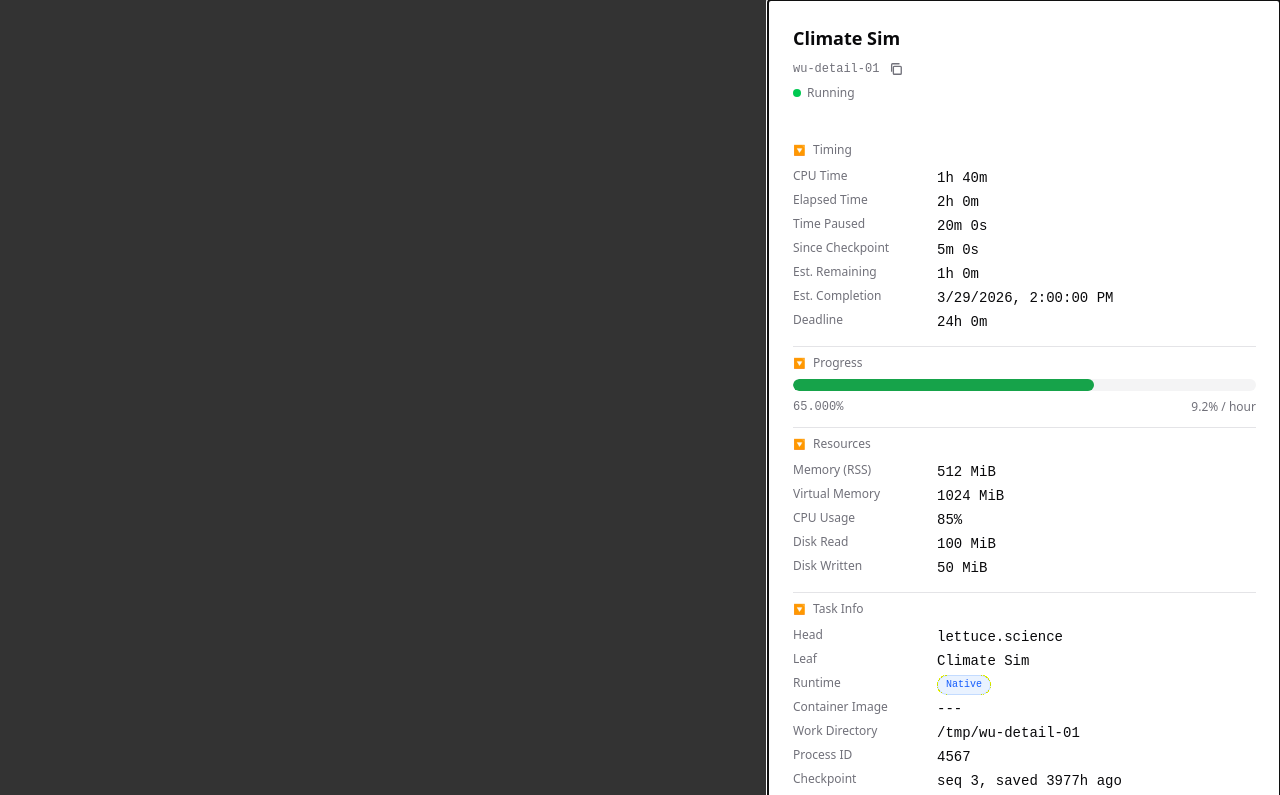
it: TaskDetailPanel › sections toggle independently
Click the button "▶ Timing" at (832, 150), box [793,134,1256,166]
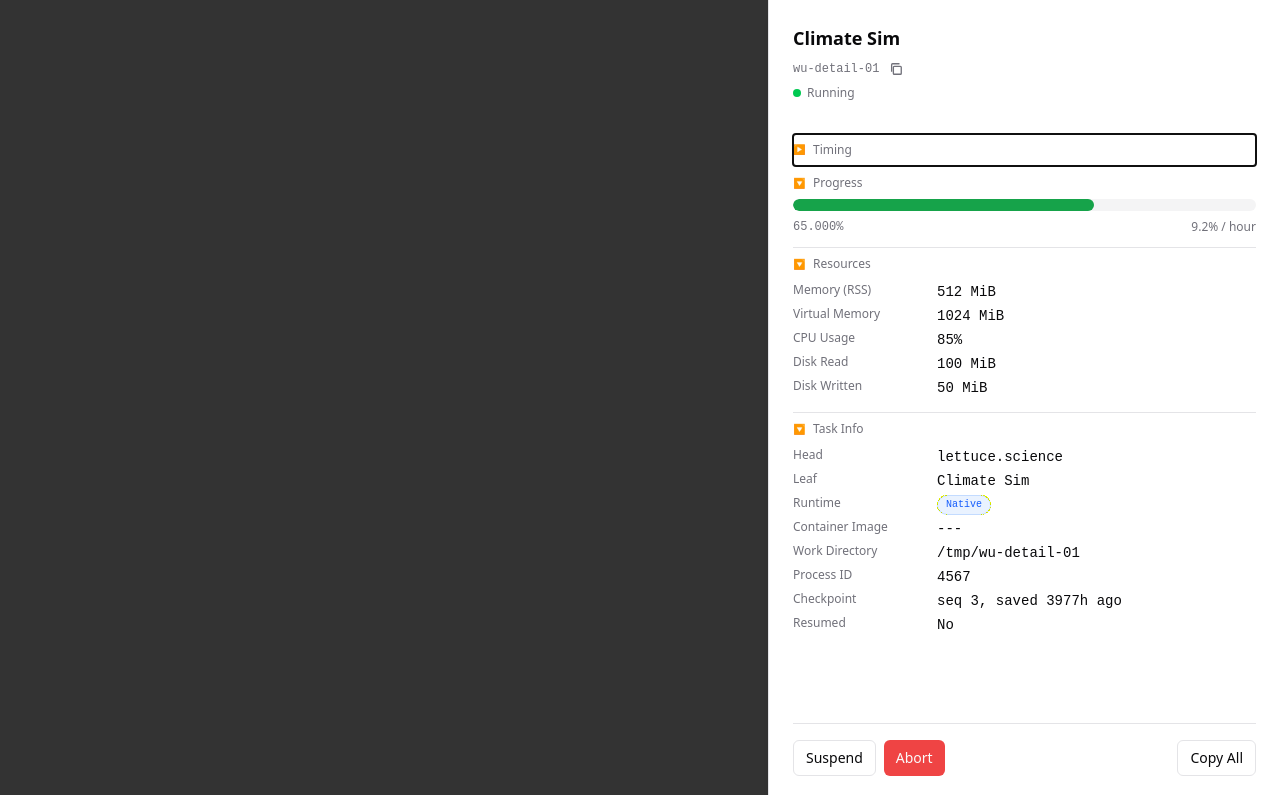
Expected: the text "Memory (RSS)" is shown, [793,281,871,298]
Expected: the text "CPU Time" is gone
Click the button "▶ Resources" at (842, 264), box [793,248,1256,280]
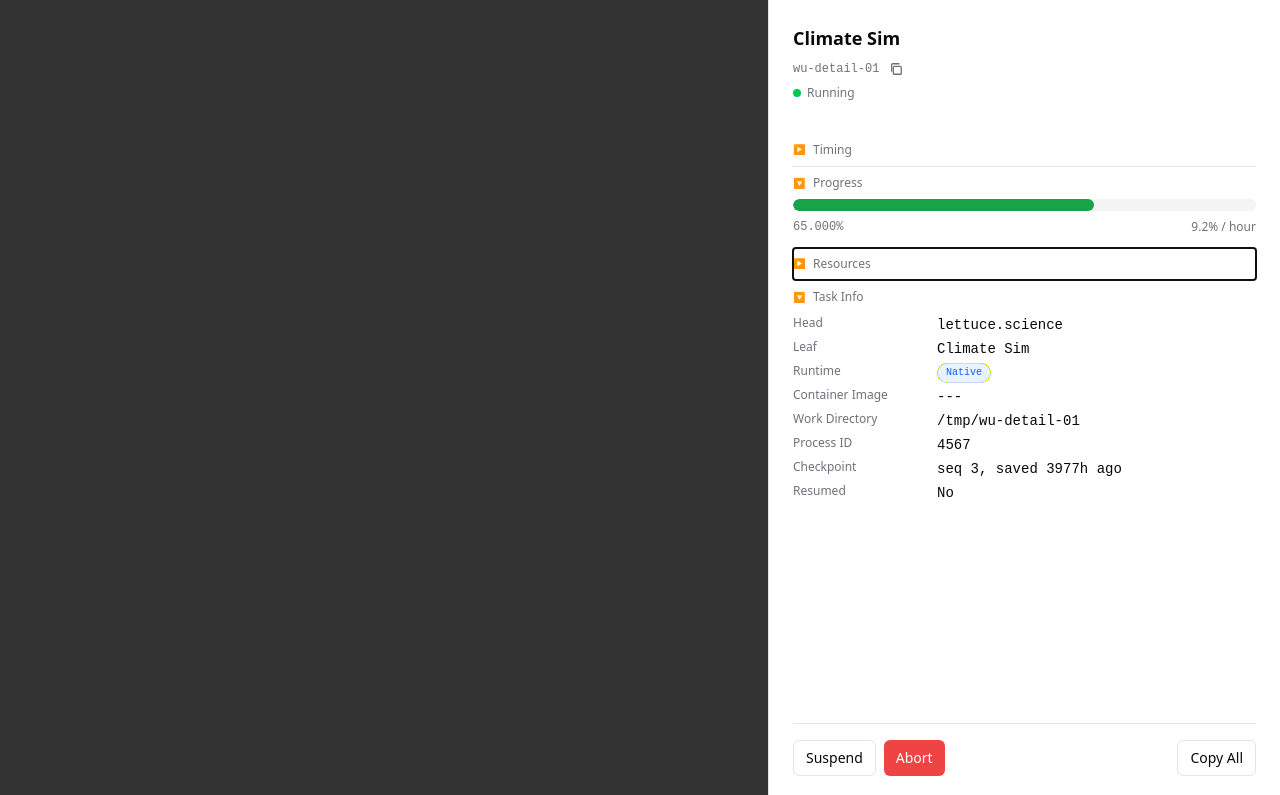
Expected: the text "CPU Time" is not shown
Expected: the text "Memory (RSS)" is gone
